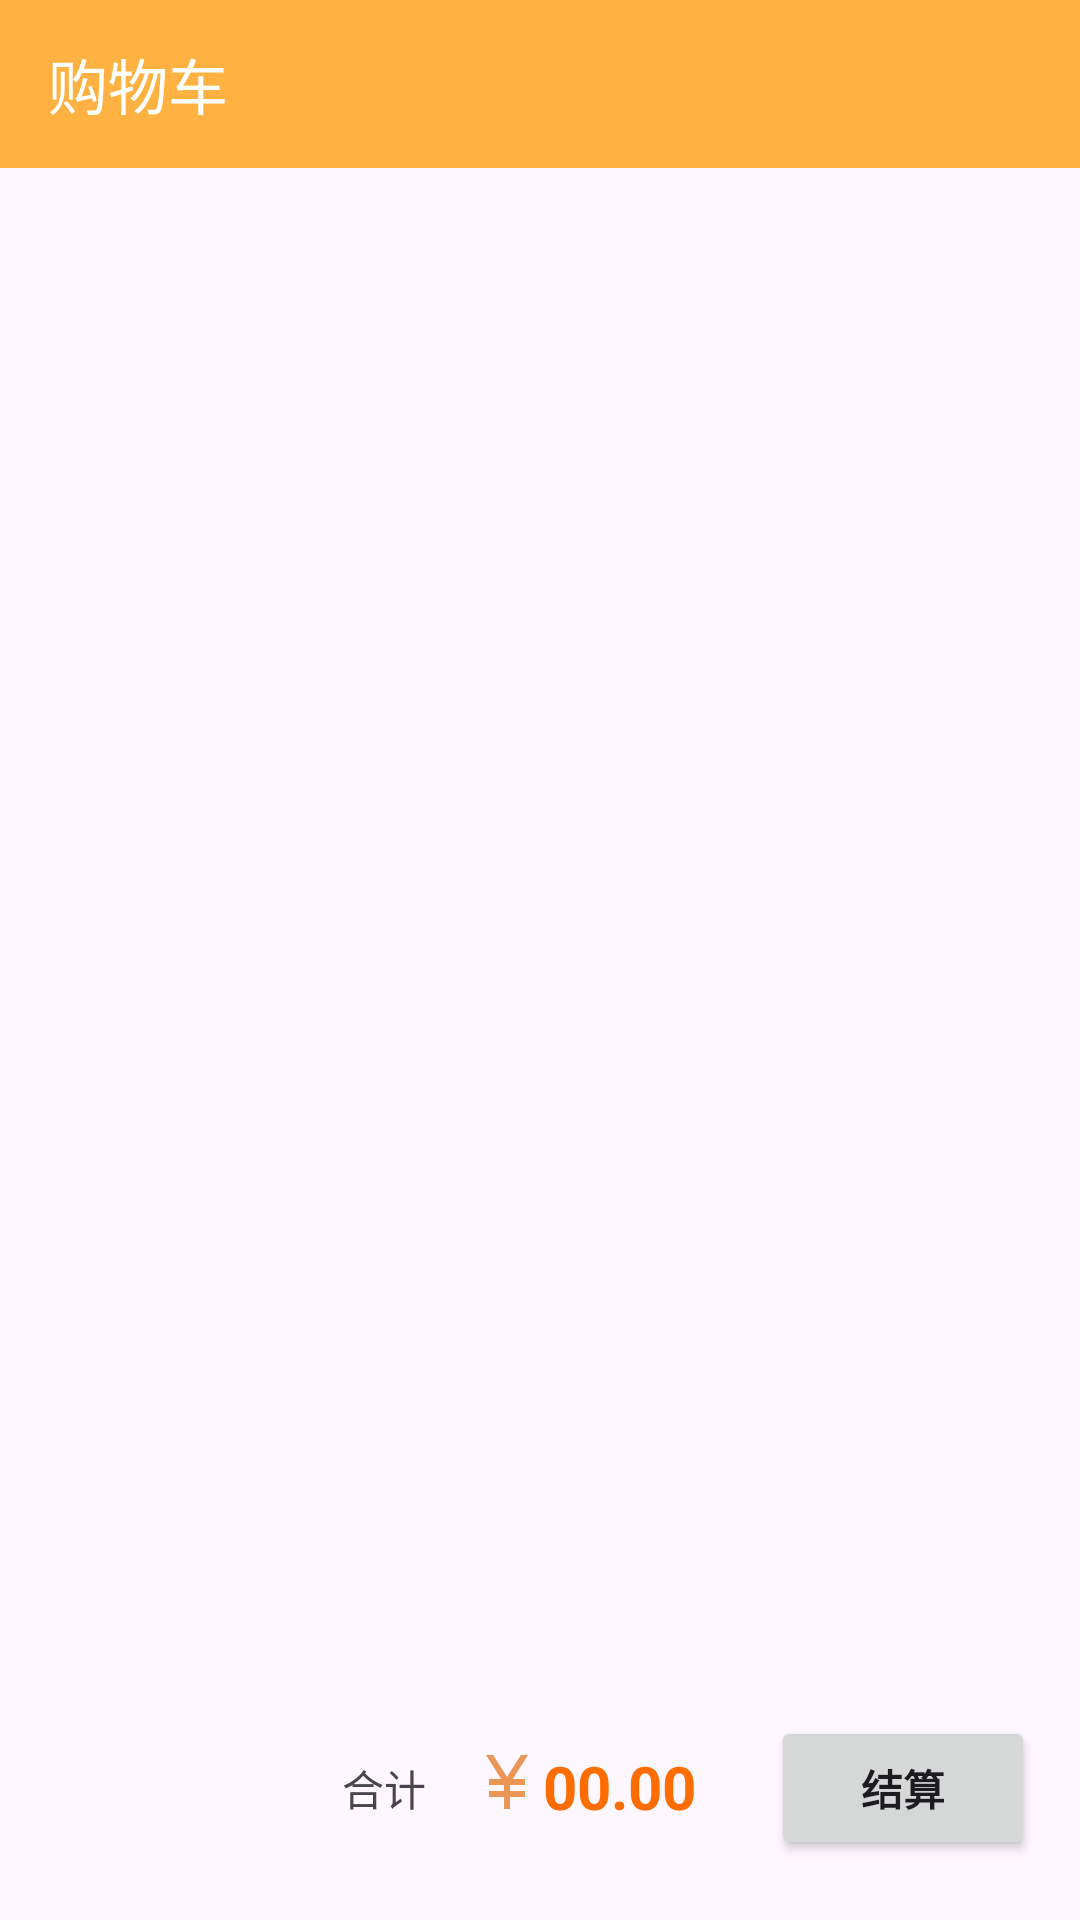

Locate icon controls on the screen. Image size 1080*1920, boxes as (x1, y1, x2, y2).
currency yen: (486, 1755, 528, 1809)
